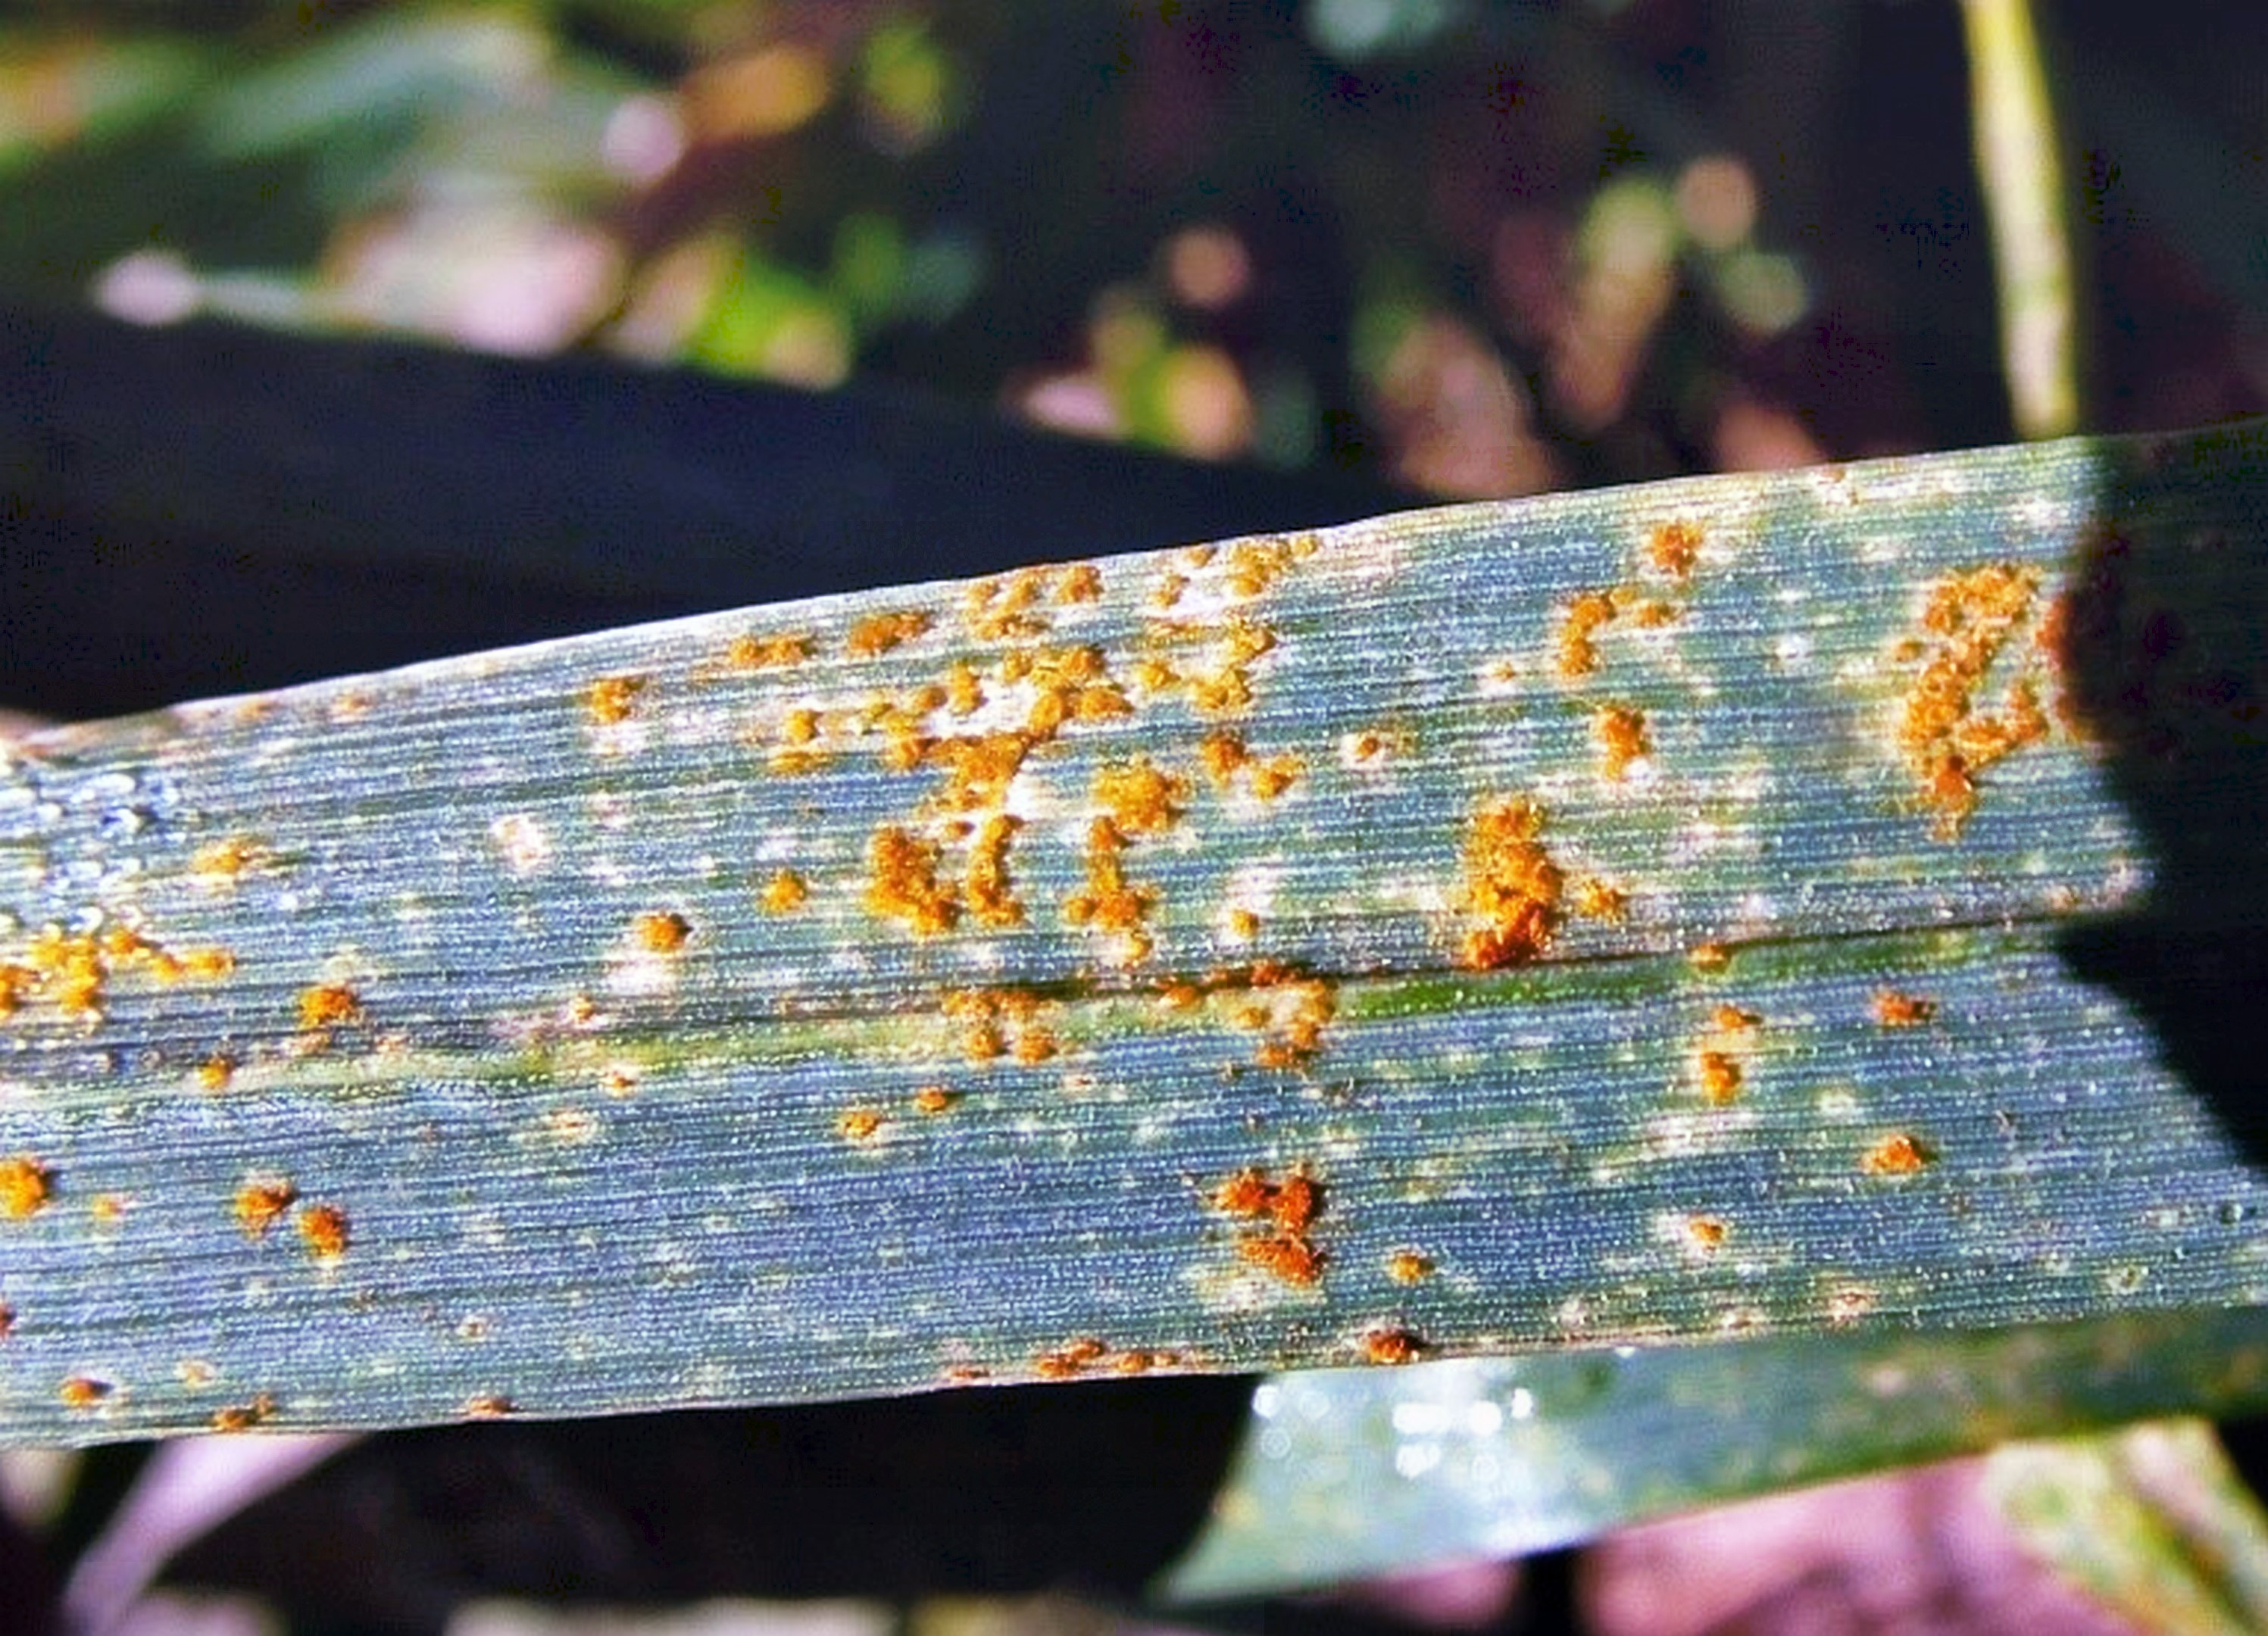Leaf Rust: (599, 458, 2129, 1391)
